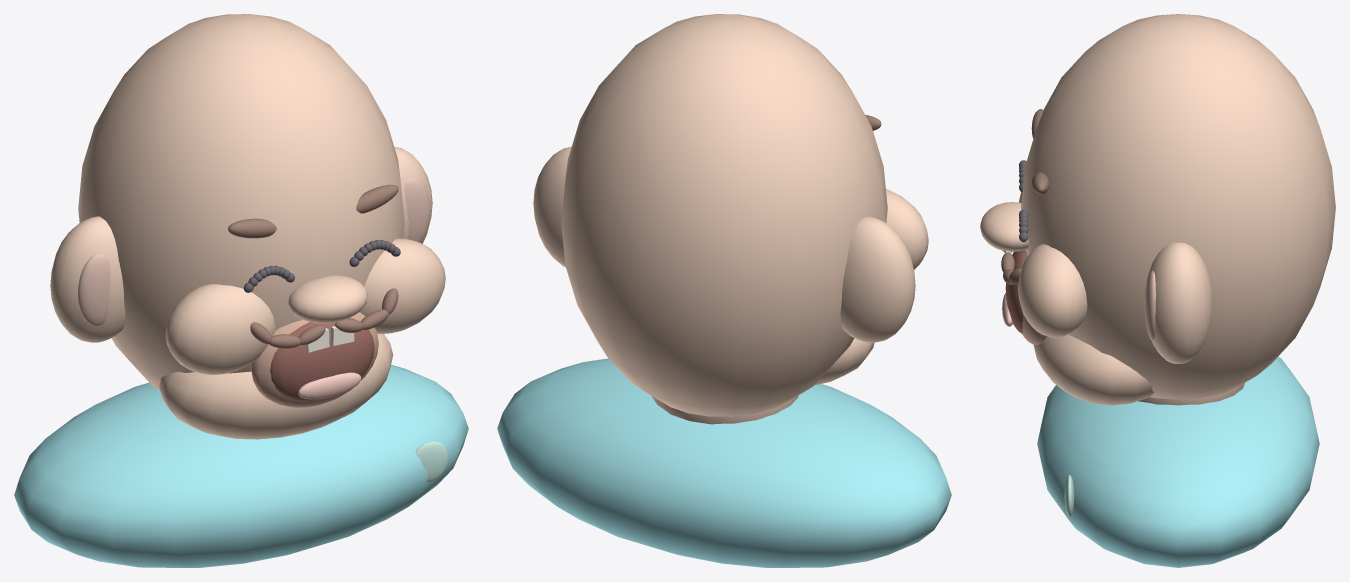
The model's file is laughter.glb.
3 renders of one model, left to right at view 1: azimuth 30°, elevation 25°; view 2: azimuth 150°, elevation 25°; view 3: azimuth 270°, elevation 25°, orthographic. The views are drawn at different scales.
Parts seen in each view (by area): view 1: Head, Cape, Wide_chin, Cheek_-1, Ear_-1, Cheek_1, Mouth_open, Nose_short, Mouth_rim, Ear_inner_-1, Ear_inner_1, Ear_1 (+4 smaller); view 2: Head, Cape, Ear_-1, Ear_1, Cheek_-1, Neck, Wide_chin; view 3: Head, Cape, Ear_1, Wide_chin, Cheek_1, Nose_short, Mouth_open, Neck, Ear_inner_1.
Part boxes in pixels (bbox=[...]): Head: bbox=[78, 14, 404, 390]; Cape: bbox=[14, 364, 468, 567]; Wide_chin: bbox=[159, 334, 393, 439]; Cheek_-1: bbox=[165, 284, 275, 374]; Ear_-1: bbox=[50, 216, 125, 342]; Cheek_1: bbox=[360, 238, 445, 333]; Mouth_open: bbox=[270, 318, 374, 401]; Nose_short: bbox=[288, 275, 367, 323]; Mouth_rim: bbox=[251, 312, 378, 407]; Ear_inner_-1: bbox=[78, 253, 110, 326]; Ear_inner_1: bbox=[404, 177, 430, 242]; Ear_1: bbox=[394, 147, 432, 243]; Head: bbox=[561, 14, 887, 416]; Cape: bbox=[497, 358, 951, 567]; Ear_-1: bbox=[840, 216, 915, 342]; Ear_1: bbox=[533, 147, 571, 267]; Cheek_-1: bbox=[886, 189, 928, 269]; Neck: bbox=[651, 395, 798, 424]; Wide_chin: bbox=[814, 338, 874, 385]; Head: bbox=[1021, 14, 1335, 399]; Cape: bbox=[1037, 356, 1319, 567]; Ear_1: bbox=[1144, 242, 1212, 363]; Wide_chin: bbox=[1033, 334, 1154, 405]; Cheek_1: bbox=[1018, 244, 1087, 337]; Nose_short: bbox=[980, 202, 1028, 251]; Mouth_open: bbox=[1005, 250, 1024, 333]; Neck: bbox=[1138, 383, 1244, 405]; Ear_inner_1: bbox=[1144, 270, 1155, 341].
Bounding box in the file's own units: 2.36 × 2.69 × 1.76.
